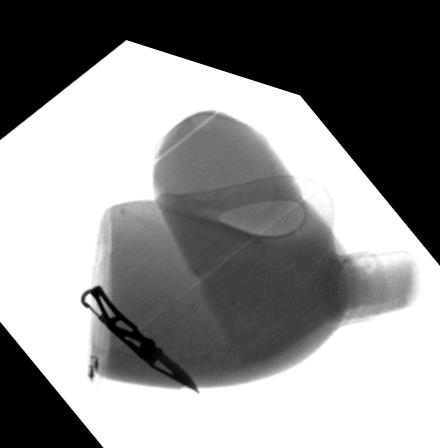Knife: (78, 276, 200, 381)
